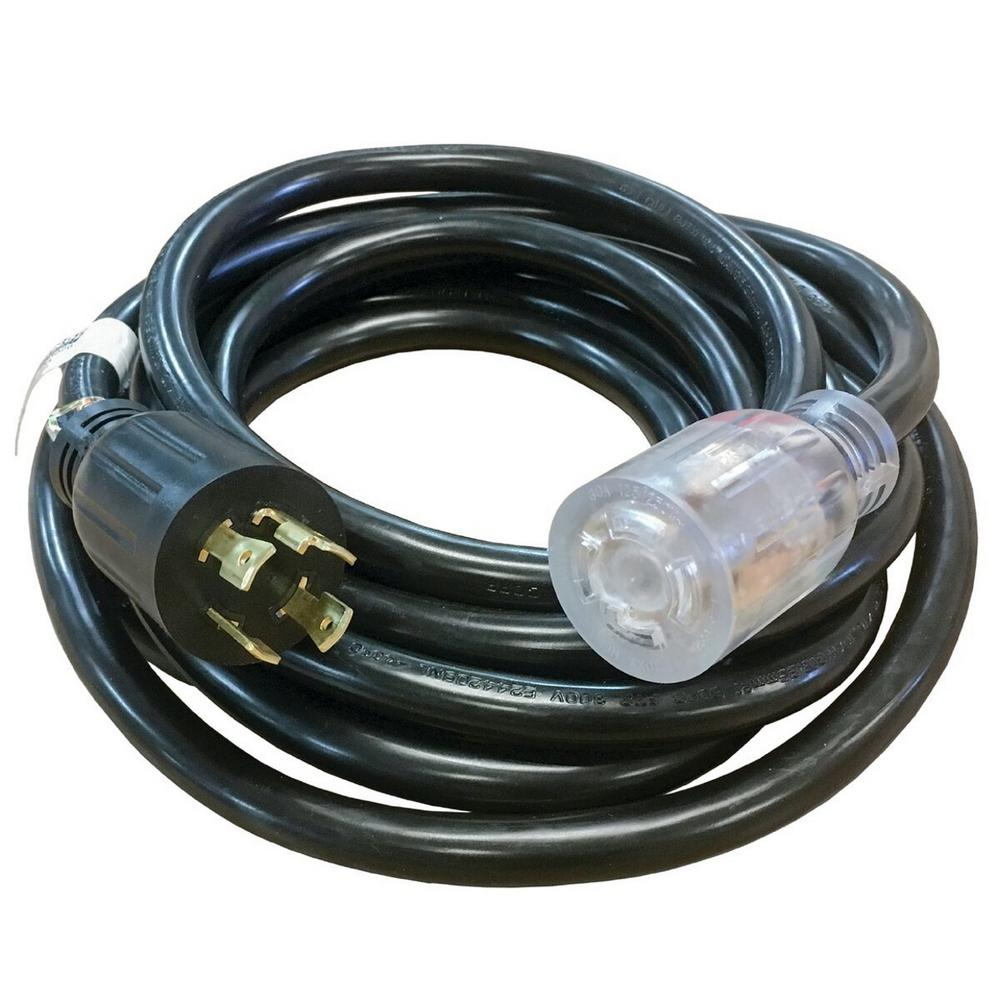Nonrec_Tangler: (1, 104, 997, 927)
